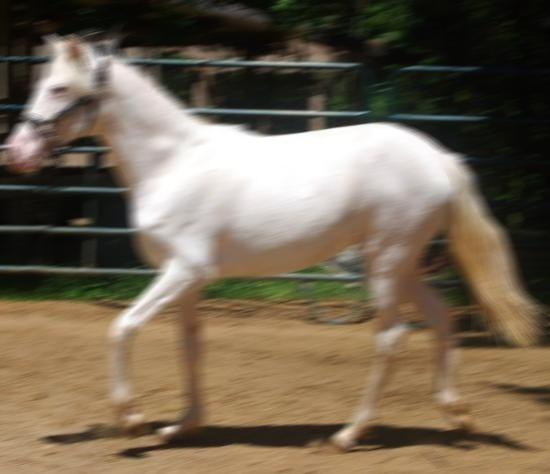horse: (2, 22, 550, 453)
